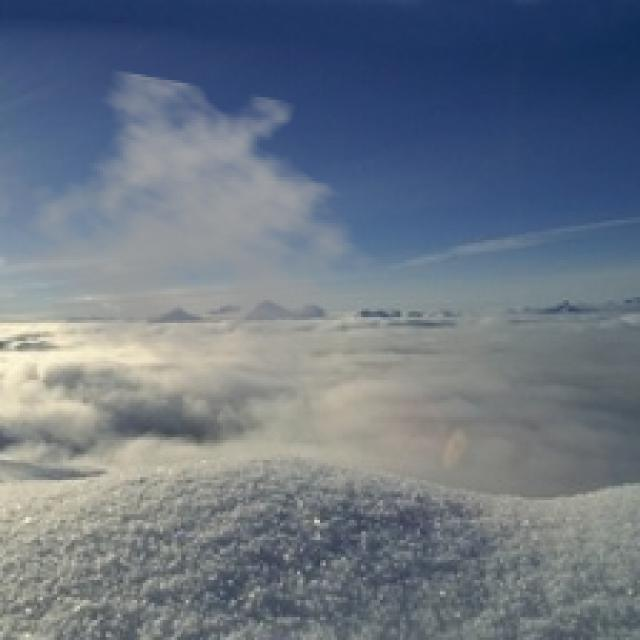smoke: (9, 69, 397, 414)
